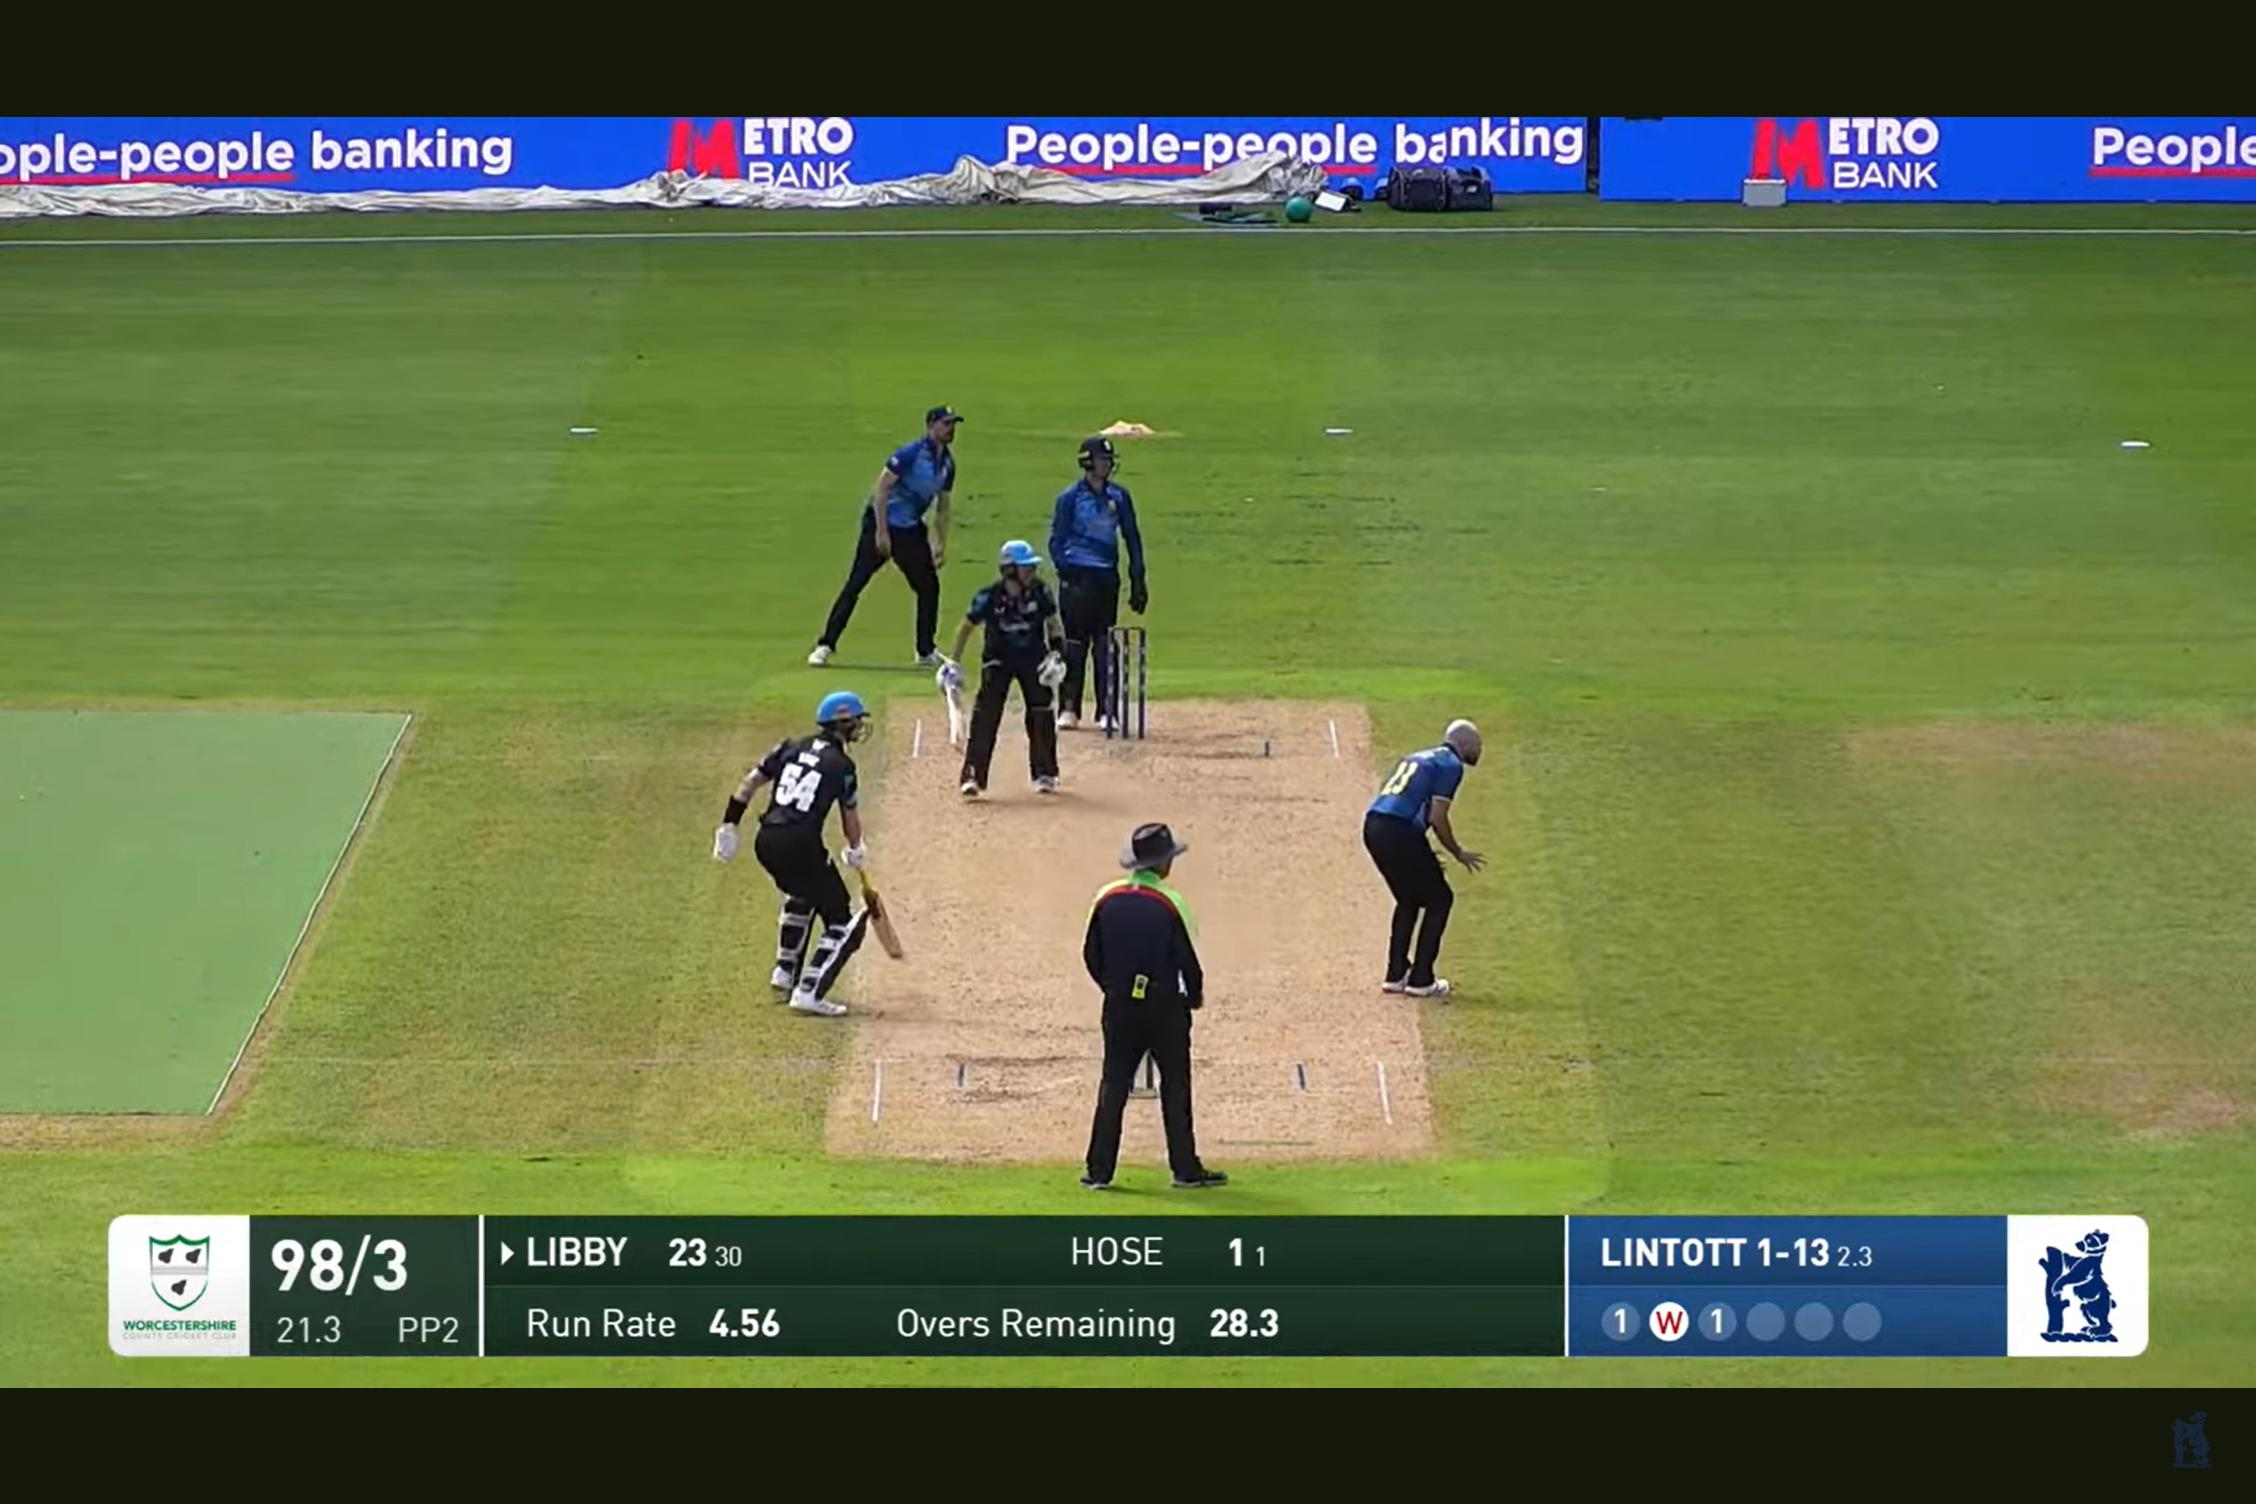bowler running in: (1319, 673, 1541, 1012)
running: (681, 666, 911, 1041), (953, 524, 1078, 822)
umpire: (1057, 807, 1230, 1192)
